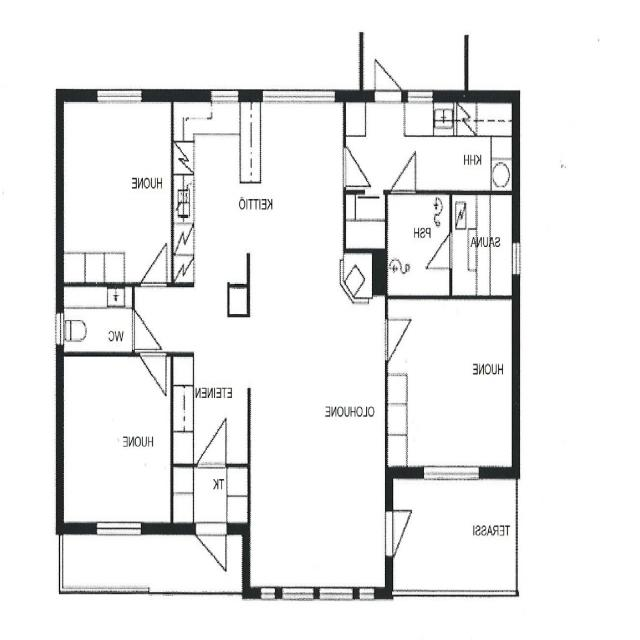door: (196, 523, 227, 583), (385, 510, 421, 554), (375, 47, 403, 102), (199, 422, 226, 468), (385, 320, 414, 360), (142, 243, 168, 286), (132, 310, 160, 349), (343, 147, 370, 185), (142, 352, 166, 394), (392, 154, 414, 194), (428, 234, 452, 268)
